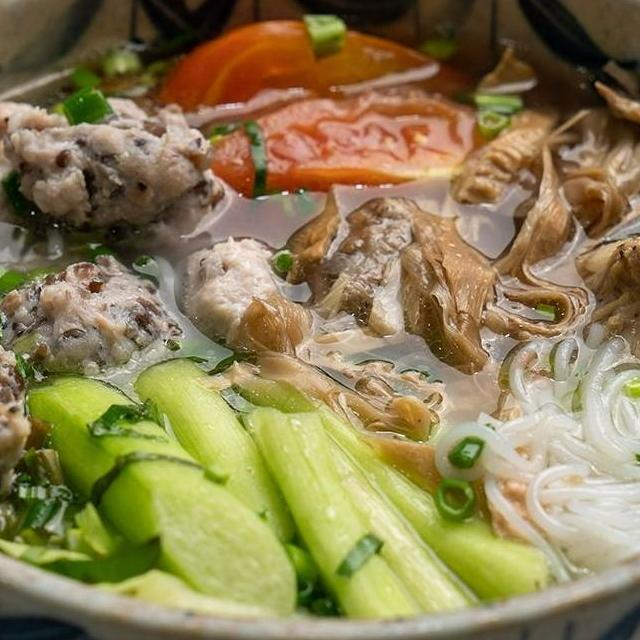vien moc: (436, 311, 640, 579), (0, 93, 243, 241), (0, 237, 189, 379), (182, 222, 312, 358), (0, 297, 48, 514)
